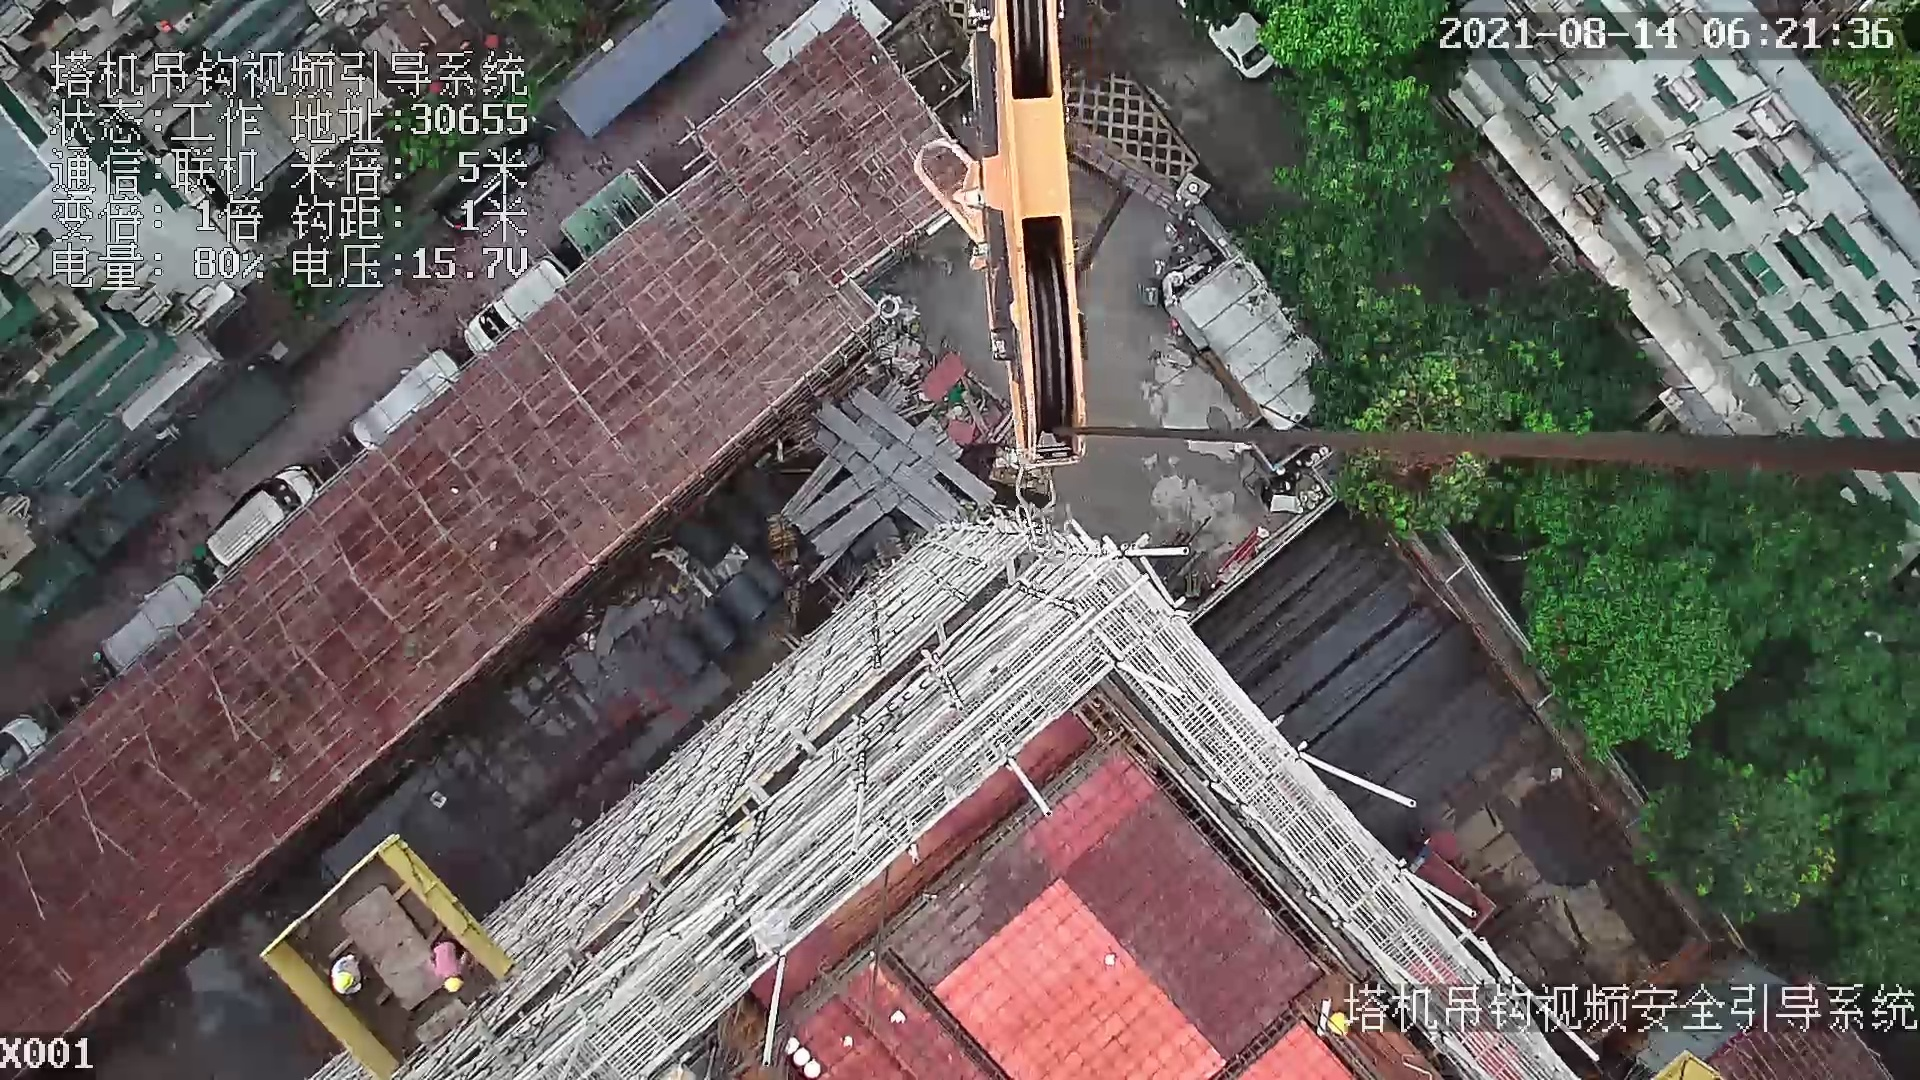helmet: (335, 972, 354, 992), (442, 979, 465, 992)
hook: (917, 1, 1092, 460)
person: (423, 946, 472, 992), (331, 950, 356, 994)
